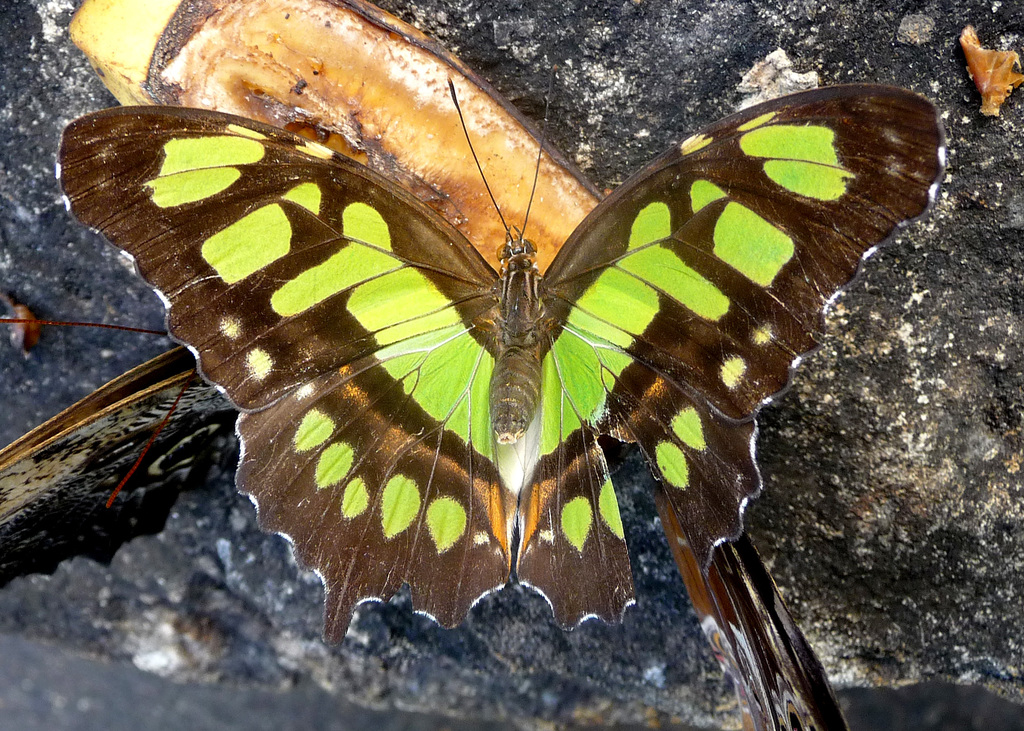Butterfly: (40, 59, 930, 636)
